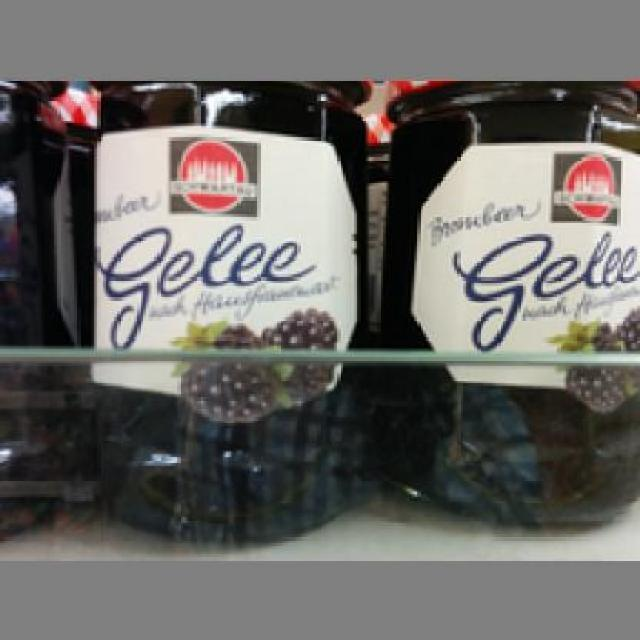Jam: (72, 77, 368, 543), (372, 77, 638, 526)
